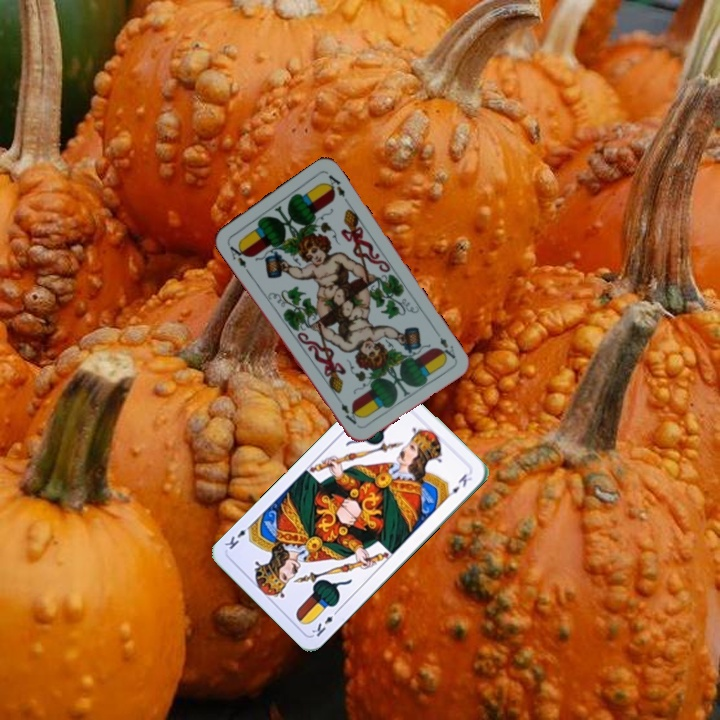EA: (430, 326, 458, 362), (223, 239, 249, 271)
EK: (307, 605, 341, 639)
